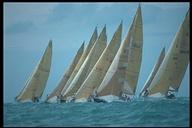sailboat: (90, 7, 145, 106), (138, 7, 191, 99), (72, 17, 126, 103), (64, 22, 110, 103), (13, 35, 54, 105)
sky: (5, 5, 86, 37), (4, 4, 27, 82)
water: (5, 104, 188, 125)
